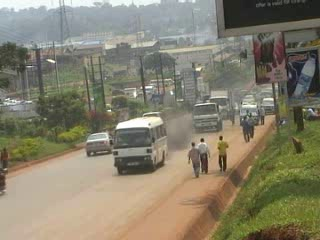Car: (85, 129, 116, 158)
Motorcycle: (0, 158, 10, 199)
